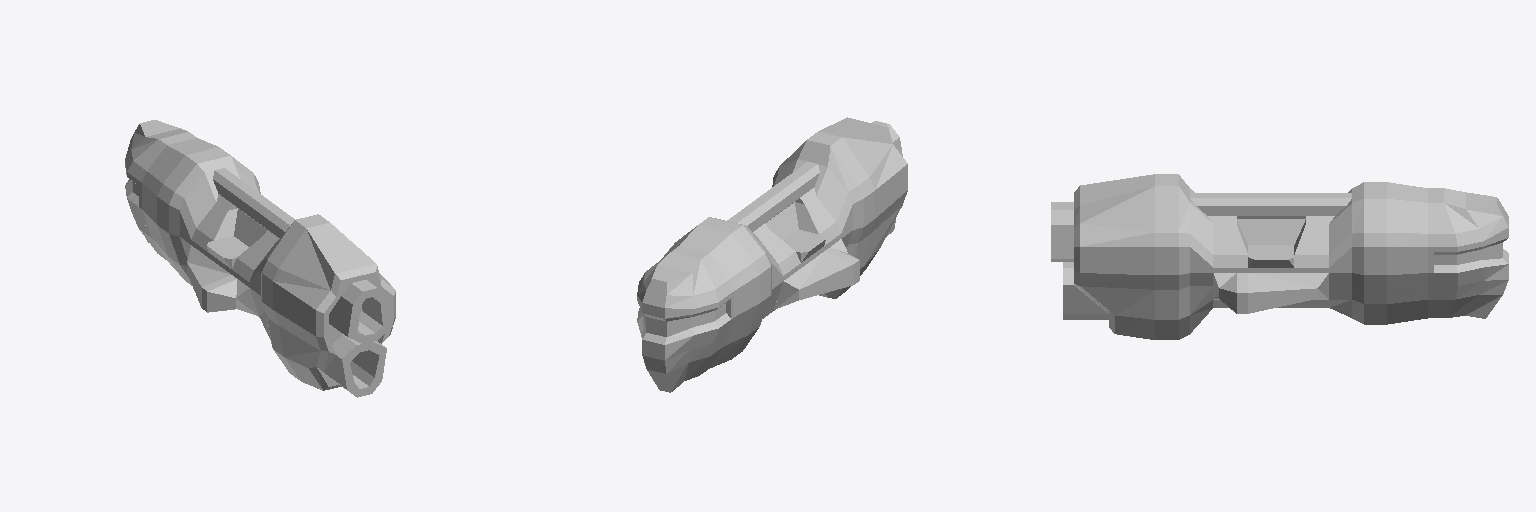
File: oxar_freighter.obj
3 views of the same model, side by side, from view 1: azimuth 30°, elevation 25°; view 2: azimuth 150°, elevation 25°; view 3: azimuth 270°, elevation 25° (orthographic).
Visible parts, largest first — view 1: oxar_freighter; view 2: oxar_freighter; view 3: oxar_freighter.
Boxes of the visible parts, x1=… form: oxar_freighter: x1=125, y1=120, x2=395, y2=397; oxar_freighter: x1=637, y1=117, x2=907, y2=392; oxar_freighter: x1=1051, y1=174, x2=1508, y2=339.
Size of the model in its own units: 0.21 by 0.2175 by 0.5925.